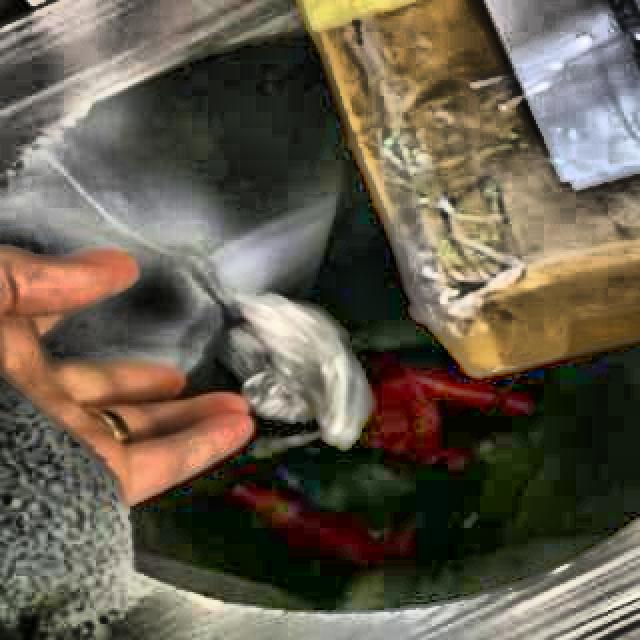metal: (222, 293, 369, 449)
